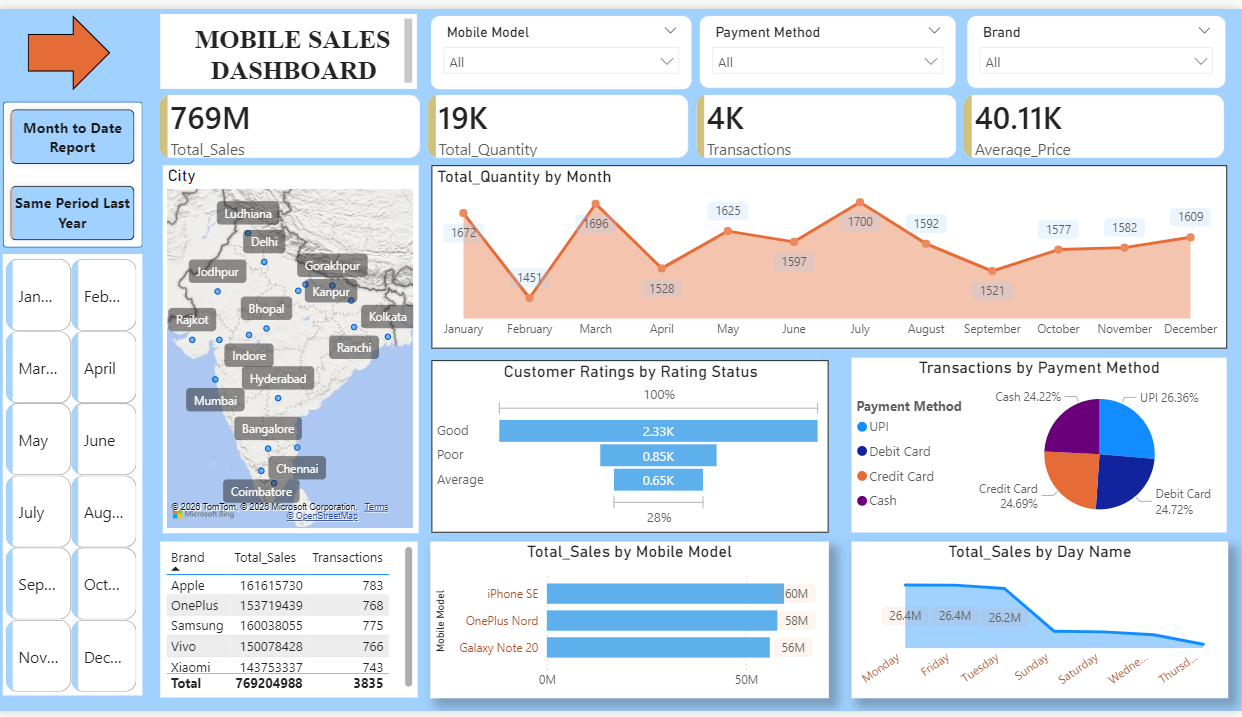

Layout of this report page (visuals, bound fields, positions):
{"tool":"powerbi","page":{"name":"Dashboard","canvas":[1280,720],"ordinal":0},"visuals":[{"type":"advancedSlicerVisual","fields":{"Values":["Custome_Calendar.Date.Variation.Date Hierarchy.Month"]},"box":[9,251.3,143.6,452.6],"z":0},{"type":"cardVisual","fields":{"Data":["Sales Data.Total_Sales","Sales Data.Total_Quantity","Sales Data.Transactions","Sales Data.Average_Price"]},"box":[150.6,71.6,1129.6,97.5],"z":1000},{"type":"slicer","fields":{"Values":["Sales Data.Mobile Model"]},"box":[446.9,6.2,269.1,76.5],"z":2000},{"type":"slicer","fields":{"Values":["Sales Data.Payment Method"]},"box":[723.5,6.2,264.2,75.3],"z":3000},{"type":"slicer","fields":{"Values":["Sales Data.Brand"]},"box":[997.5,6.2,266.7,75.3],"z":4000},{"type":"shape","box":[34.6,6.4,84.6,76.9],"z":5000},{"type":"textbox","box":[171.1,5.6,263.3,76.7],"z":6000},{"type":"map","fields":{"Category":["Sales Data.City"]},"box":[173.1,160.3,261.5,376.9],"z":7000},{"type":"lineChart","fields":{"Category":["Custome_Calendar.Date.Variation.Date Hierarchy.Month"],"Y":["Sales Data.Total_Quantity"]},"box":[448.1,160.5,816,187.7],"z":8000},{"type":"funnel","title":"      Customer Ratings by Rating Status","fields":{"Y":["CountNonNull(Sales Data.Customer Ratings)"],"Category":["Sales Data.Rating Status"]},"box":[448.1,360.5,407.4,176.5],"z":9000},{"type":"pieChart","fields":{"Y":["Sales Data.Transactions"],"Category":["Sales Data.Payment Method"]},"box":[879,358,385.2,179],"z":10000},{"type":"clusteredBarChart","fields":{"Category":["Sales Data.Mobile Model"],"Y":["Sales Data.Total_Sales"]},"box":[446.9,545.7,408.6,160.5],"z":11000},{"type":"stackedAreaChart","fields":{"Category":["Custome_Calendar.Day Name"],"Y":["Sales Data.Total_Sales"]},"box":[879,545.7,386.4,160.5],"z":12000},{"type":"tableEx","fields":{"Values":["Sales Data.Brand","Sales Data.Total_Sales","Sales Data.Transactions"]},"box":[170.5,546.2,264.1,160.3],"z":13000},{"type":"shape","box":[9,94.9,143.6,150],"z":14000},{"type":"pageNavigator","box":[9,94.9,143.6,150],"z":14001}]}

Visuals, with their boxes in screenshot pixels (x1, y1, x2, y2), scaled from the page's 1280x720 canvas onto the 1242x717 screenshot:
advancedSlicerVisual - Custome_Calendar.Date.Variation.Date Hierarchy.Month: (left=9, top=250, right=148, bottom=701)
cardVisual - Sales Data.Total_Sales x Sales Data.Total_Quantity: (left=146, top=71, right=1241, bottom=168)
slicer - Sales Data.Mobile Model: (left=434, top=6, right=695, bottom=82)
slicer - Sales Data.Payment Method: (left=702, top=6, right=958, bottom=81)
slicer - Sales Data.Brand: (left=968, top=6, right=1227, bottom=81)
shape: (left=34, top=6, right=116, bottom=83)
textbox: (left=166, top=6, right=422, bottom=82)
map - Sales Data.City: (left=168, top=160, right=422, bottom=535)
lineChart - Custome_Calendar.Date.Variation.Date Hierarchy.Month x Sales Data.Total_Quantity: (left=435, top=160, right=1227, bottom=347)
"      Customer Ratings by Rating Status" funnel: (left=435, top=359, right=830, bottom=535)
pieChart - Sales Data.Transactions x Sales Data.Payment Method: (left=853, top=357, right=1227, bottom=535)
clusteredBarChart - Sales Data.Mobile Model x Sales Data.Total_Sales: (left=434, top=543, right=830, bottom=703)
stackedAreaChart - Custome_Calendar.Day Name x Sales Data.Total_Sales: (left=853, top=543, right=1228, bottom=703)
tableEx - Sales Data.Brand x Sales Data.Total_Sales: (left=165, top=544, right=422, bottom=704)
shape: (left=9, top=95, right=148, bottom=244)
pageNavigator: (left=9, top=95, right=148, bottom=244)
